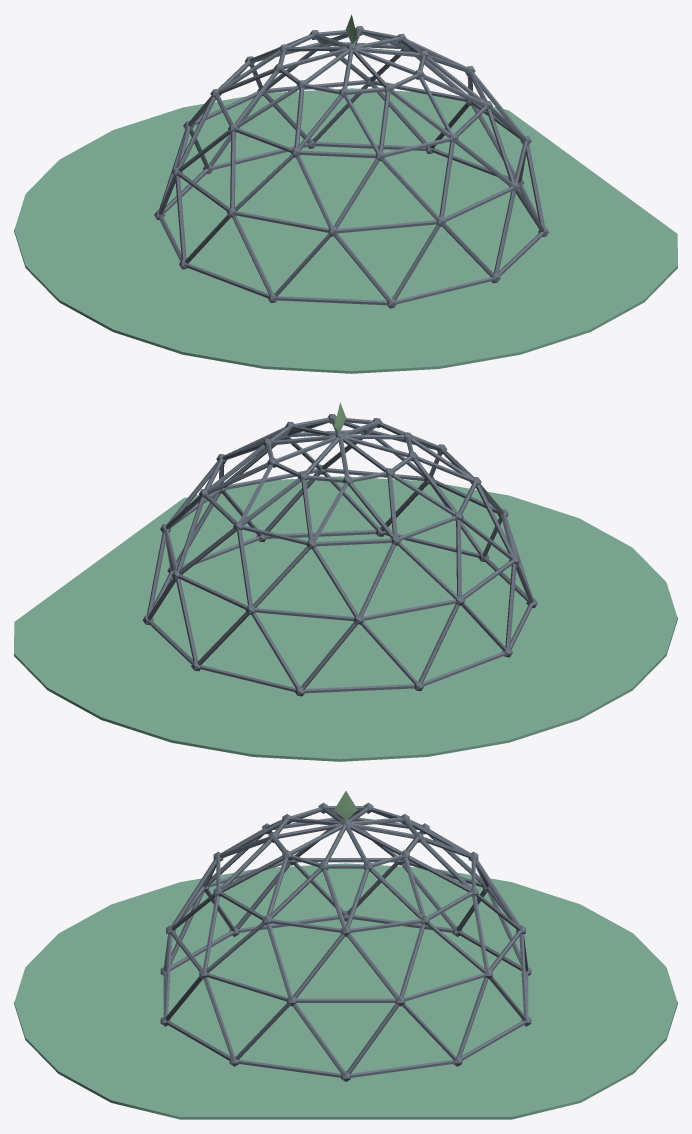
The model's file is tt_dome_climber.glb.
3 views of the same model, one above another, from view 1: azimuth 30°, elevation 25°; view 2: azimuth 150°, elevation 25°; view 3: azimuth 270°, elevation 25° (orthographic).
Visible parts, largest first — view 1: Fall_Zone_Pad, Dome_Frame; view 2: Fall_Zone_Pad, Dome_Frame; view 3: Fall_Zone_Pad, Dome_Frame.
Part boxes in pixels (bbox=[...]): Fall_Zone_Pad: bbox=[14, 88, 677, 373]; Dome_Frame: bbox=[154, 26, 549, 308]; Fall_Zone_Pad: bbox=[14, 476, 677, 761]; Dome_Frame: bbox=[142, 414, 537, 696]; Fall_Zone_Pad: bbox=[14, 863, 677, 1119]; Dome_Frame: bbox=[160, 802, 531, 1081].
Size of what is drawn, in the model's own units: 6.39 by 2.48 by 7.
Materials: 3 (1 with a texture image).
